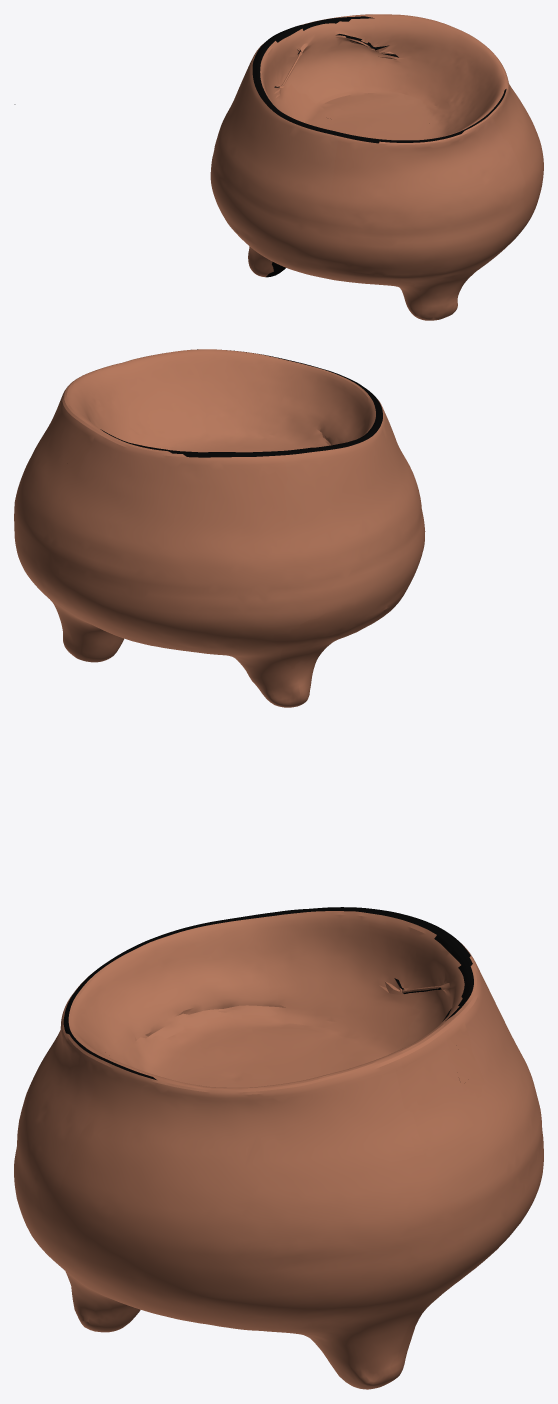
The model's file is incense-burner-raw.glb.
The picture shows the model from 3 angles, top to bottom: view 1: azimuth 30°, elevation 25°; view 2: azimuth 150°, elevation 25°; view 3: azimuth 270°, elevation 25°; orthographic projection. The views are drawn at different scales.
Bounding box in the file's own units: 0.00268 × 0.00121 × 0.00167.
2 materials, 1 textured.
